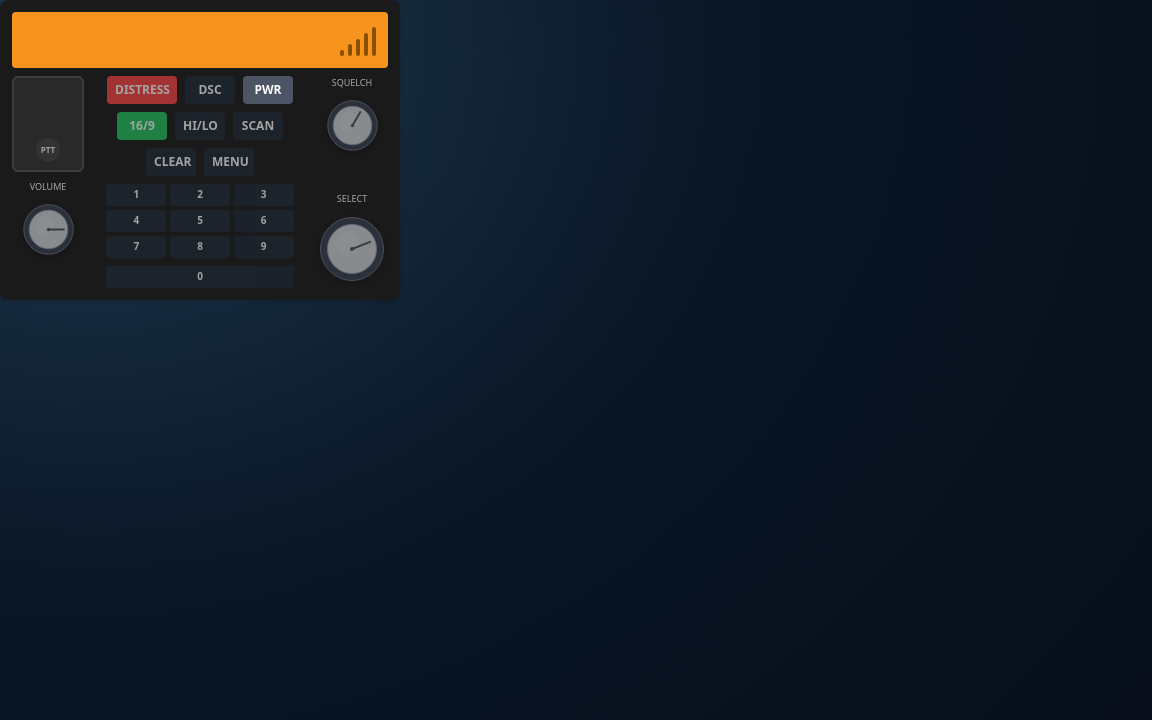
it: MarineRadio › accepts direct channel entry and updates channel
The image size is (1152, 720).
Click the button "PWR" at (268, 90), box top-left (243, 76), bottom-right (293, 104)
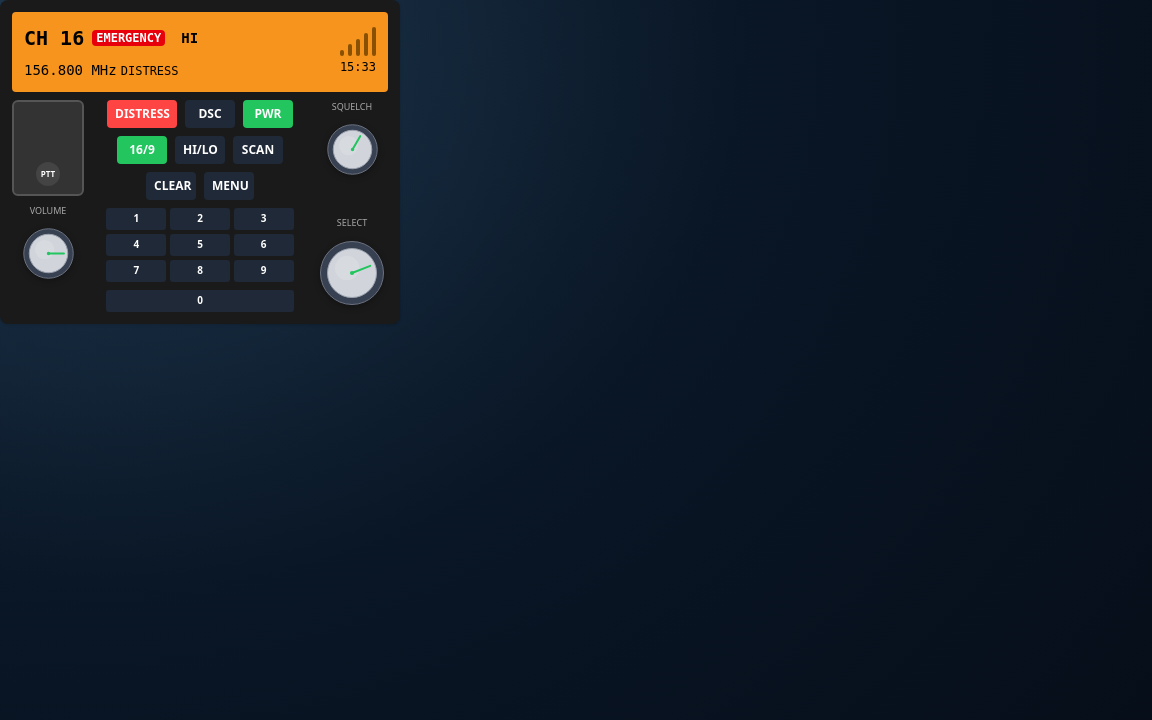
Click the button "6" at (264, 245), box top-left (234, 234), bottom-right (294, 256)
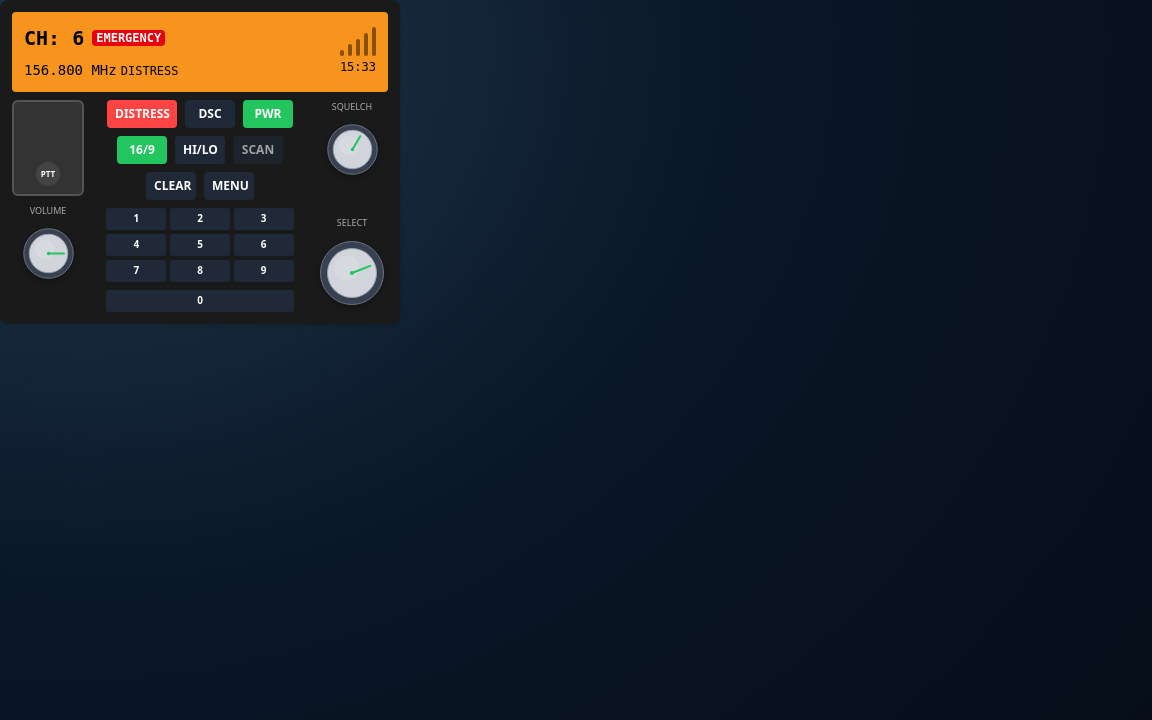
Click the button "8" at (200, 271), box top-left (170, 260), bottom-right (230, 282)
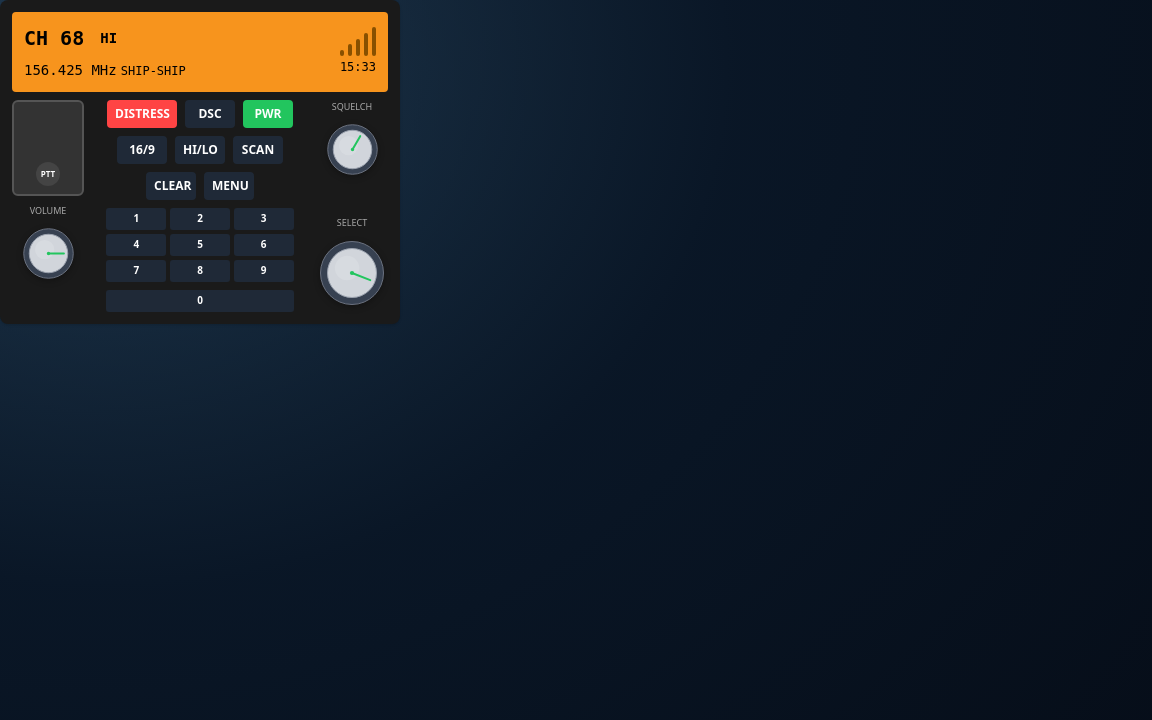
Expected: the text "CH 68 HI" is shown, top-left (24, 24), bottom-right (117, 52)
